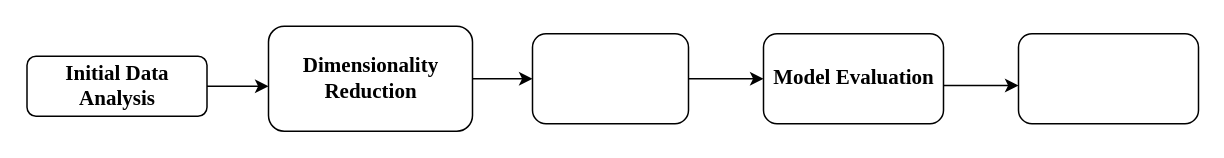
Image size: 1224x158. Some labels were removed from this diagram. Each missing label, with the centre of its shape:
"Clustering Process" goes at point 609,78.
"Results Validation" goes at point 1107,78.
